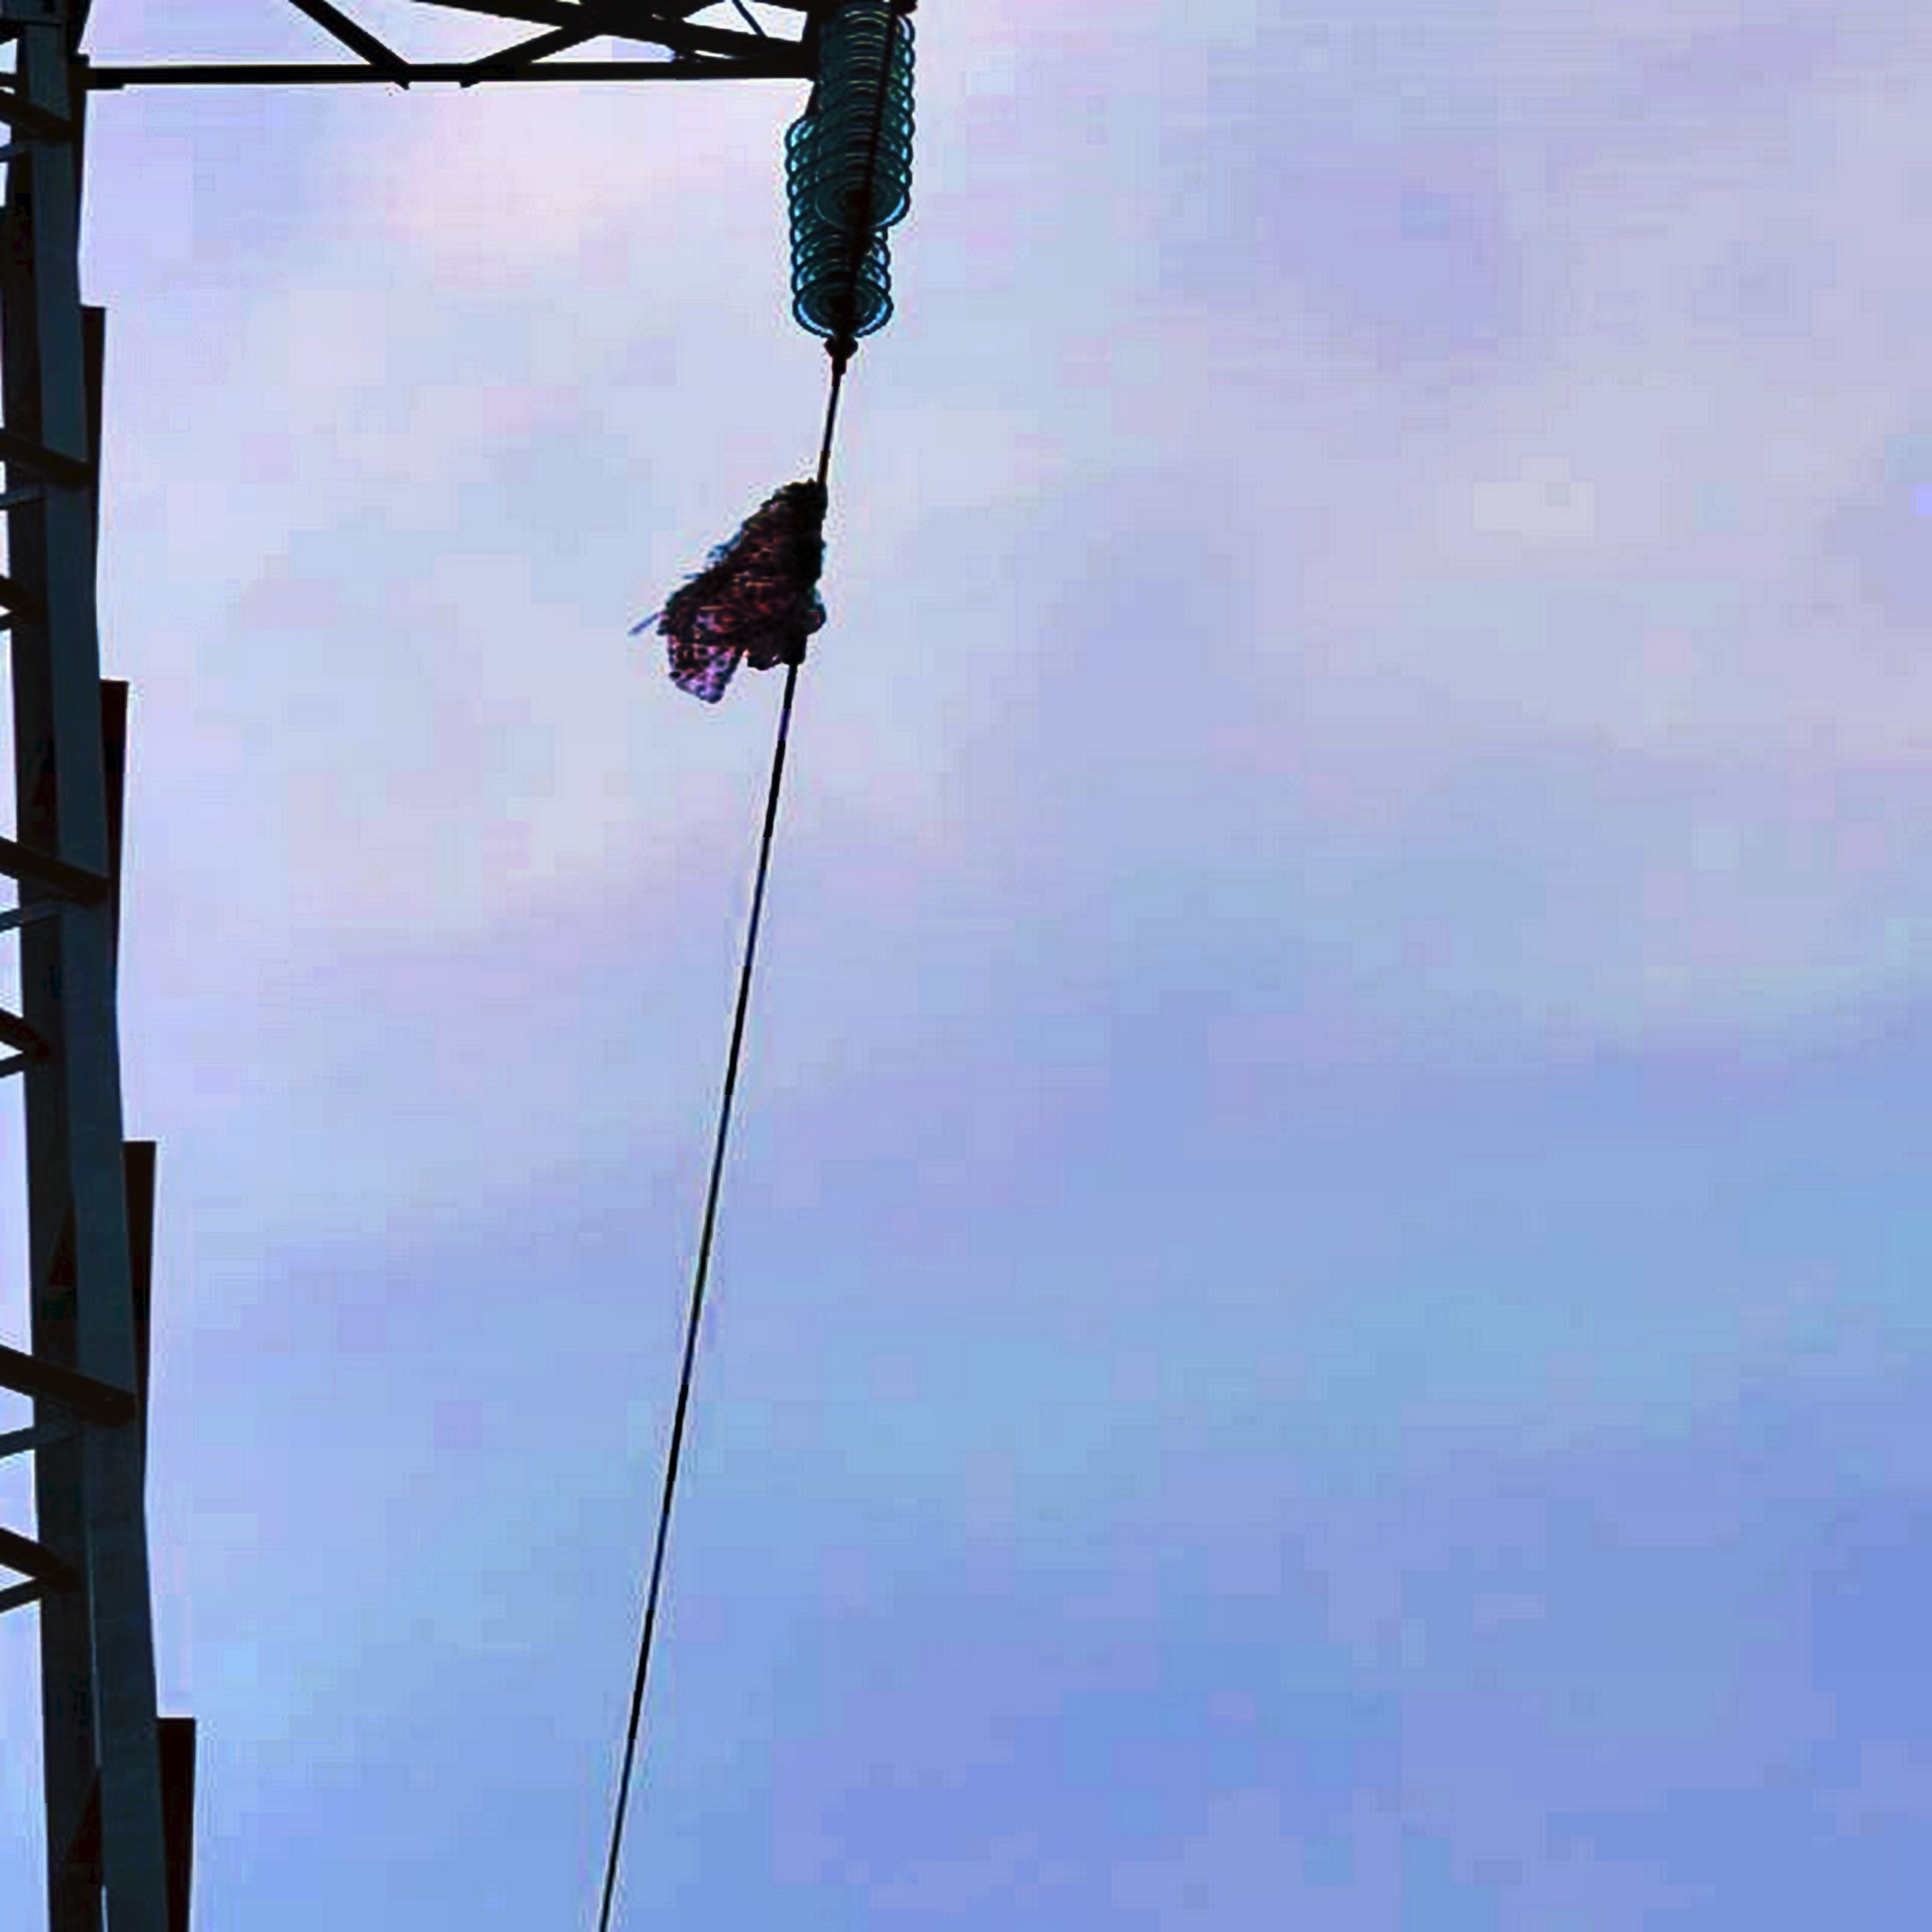wire foreign body: (623, 474, 904, 709)
